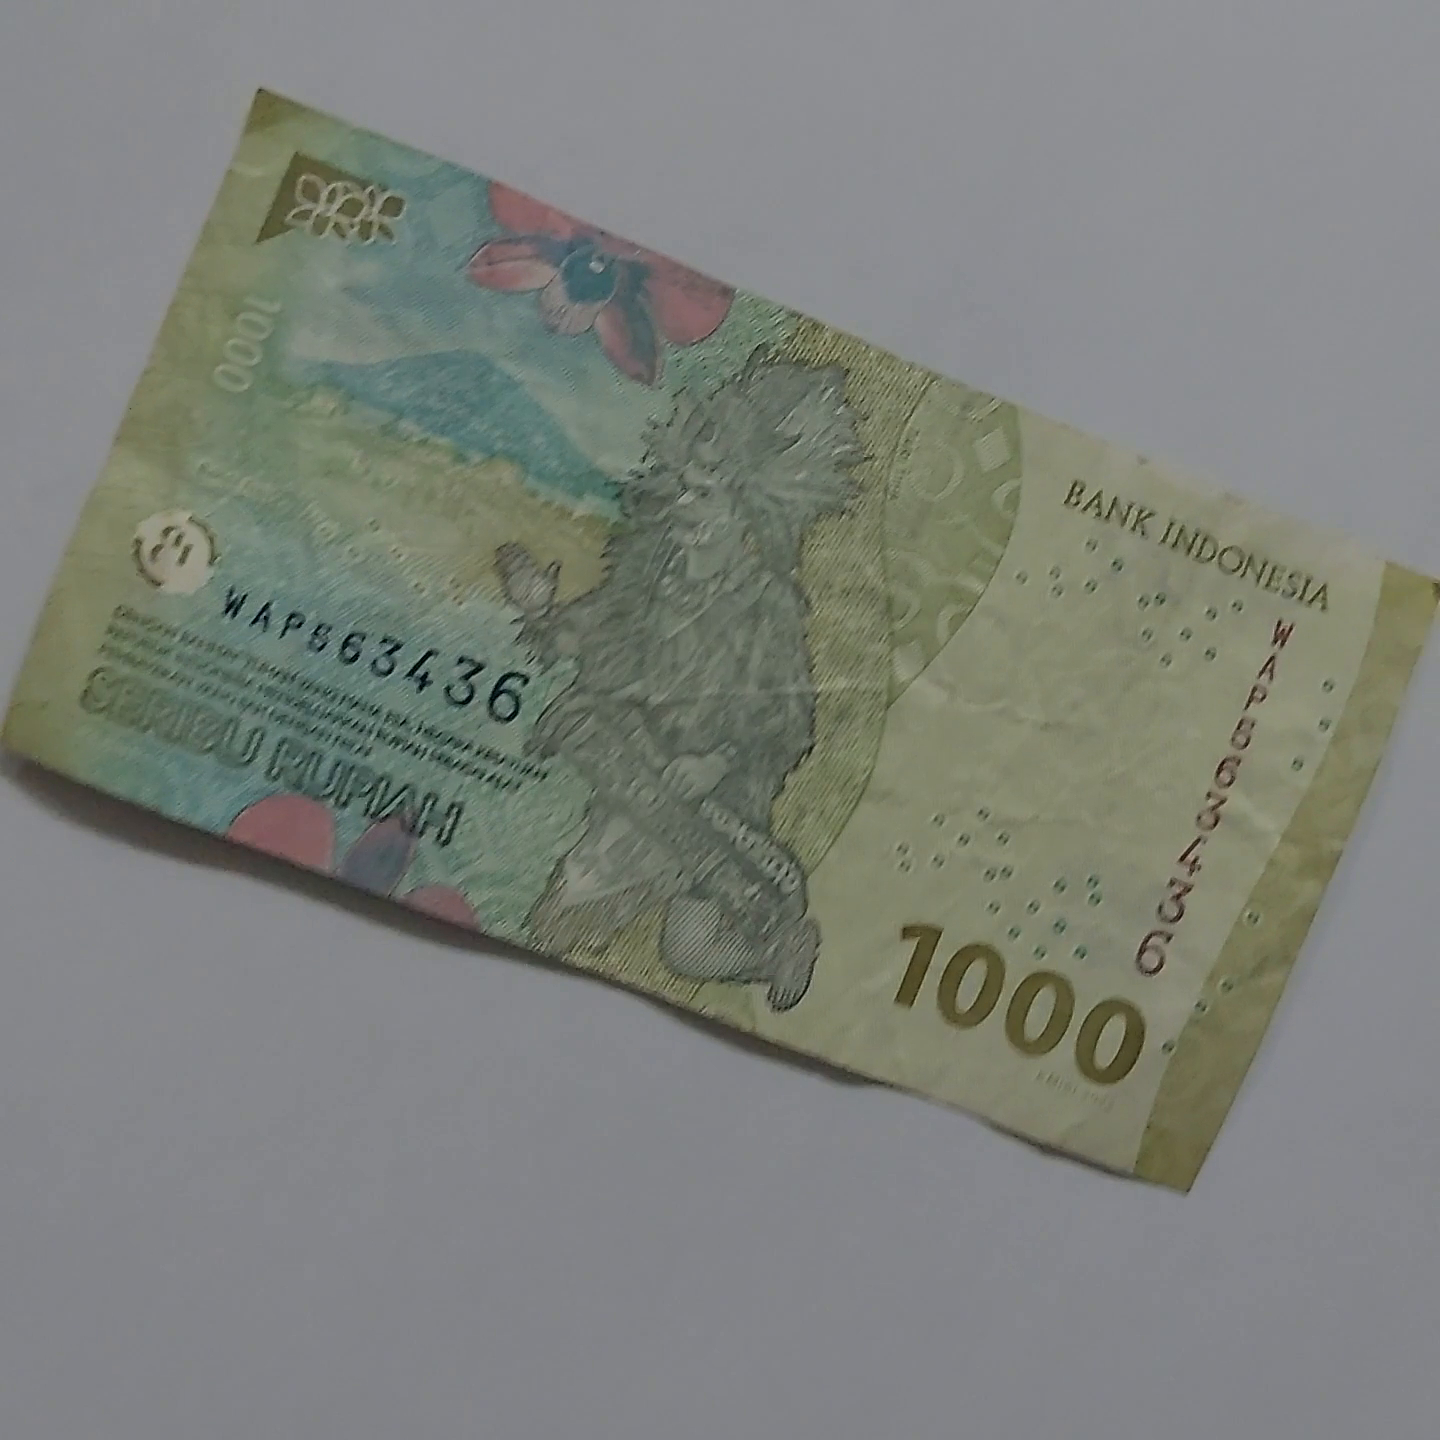1k: (54, 49, 1440, 1221)
